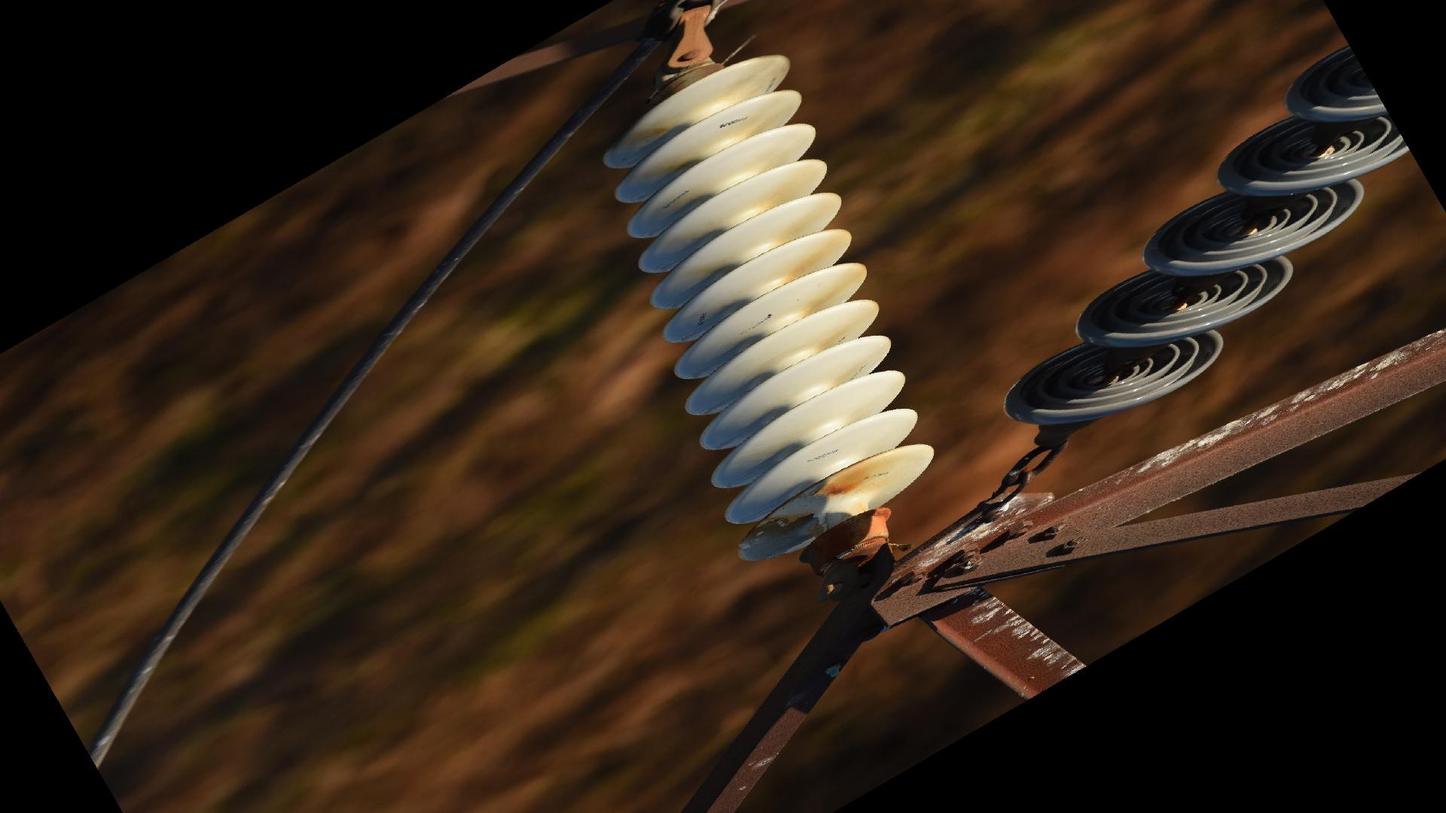insulator: (599, 43, 941, 574), (996, 34, 1414, 431)
insulator_flashover: (734, 507, 825, 565)
